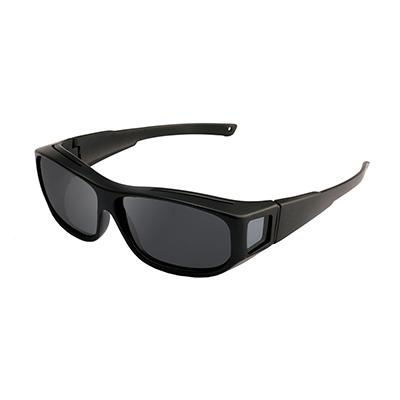sunglasses: (16, 124, 380, 277)
